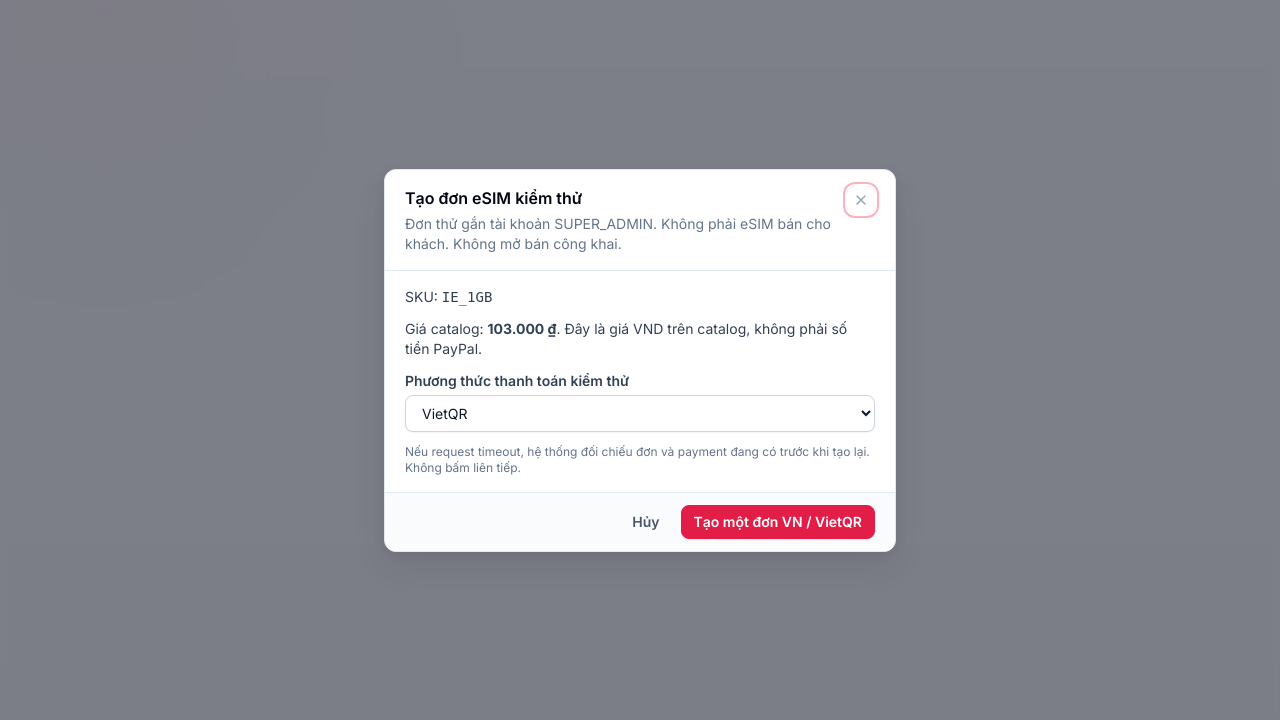
Test: AdminTestOrderDialog › shows a clear error when the payment response has no approval URL
Select "PayPal Sandbox" in the dropdown labelled "Phương thức thanh toán kiểm thử": (640, 413) [405,394,875,432]
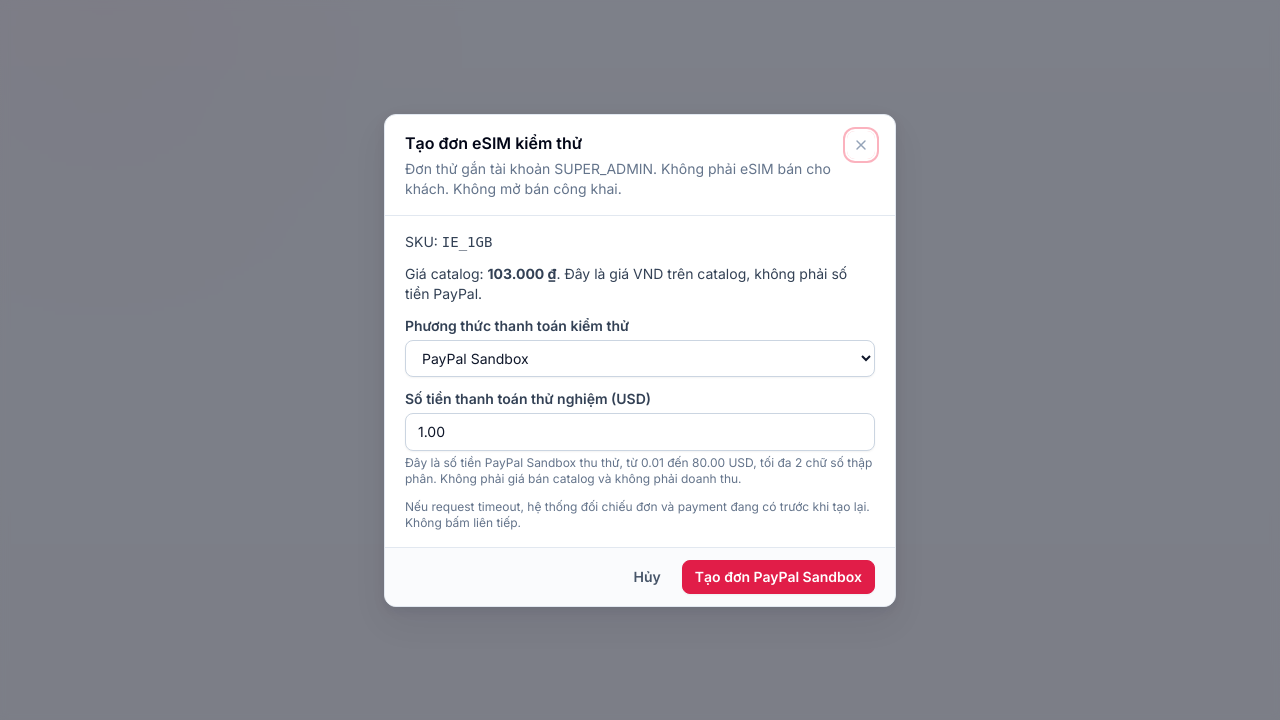
Click the button "Tạo đơn PayPal Sandbox": (778, 576) [682,560,875,594]
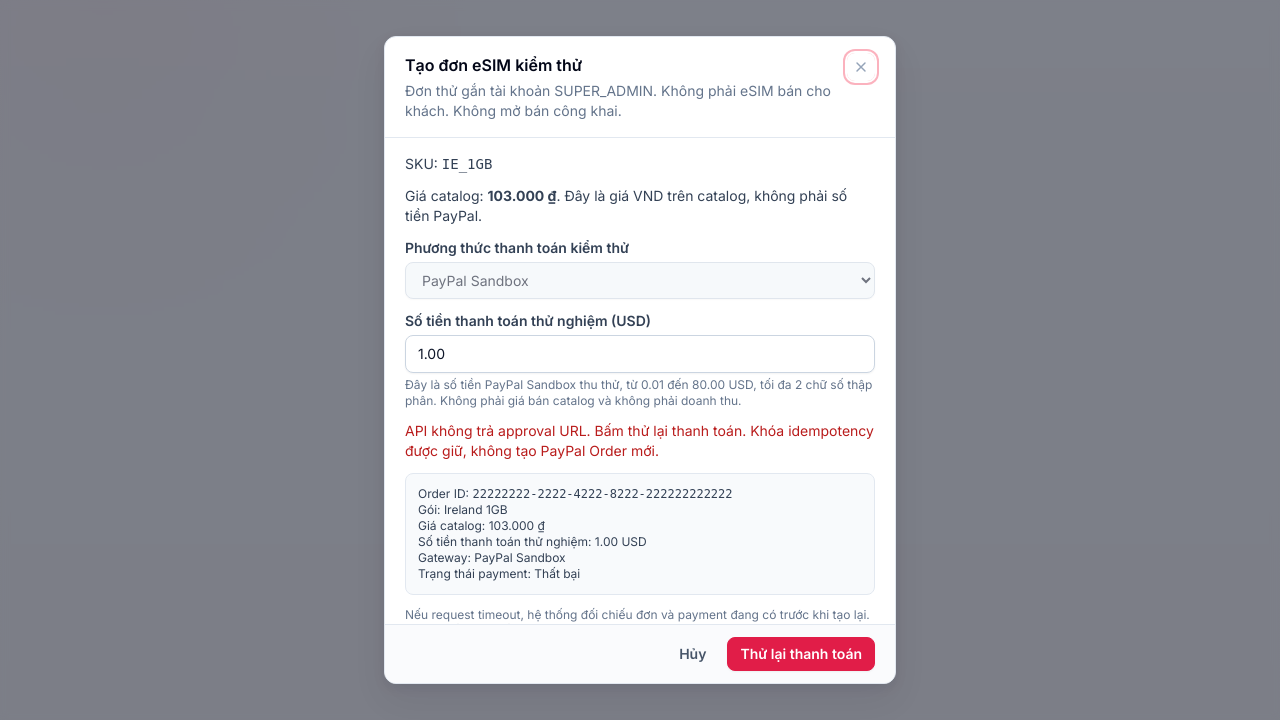
Result: the text "API không trả approval URL" is shown at [405,422,874,459]
Result: the text "Trạng thái payment: Thất bại" is shown at [418,566,580,581]
